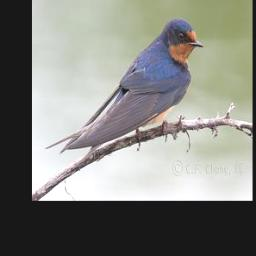Swallow: (44, 16, 204, 155)
